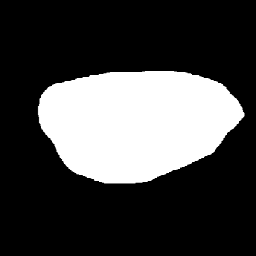mass: (41, 70, 236, 172)
